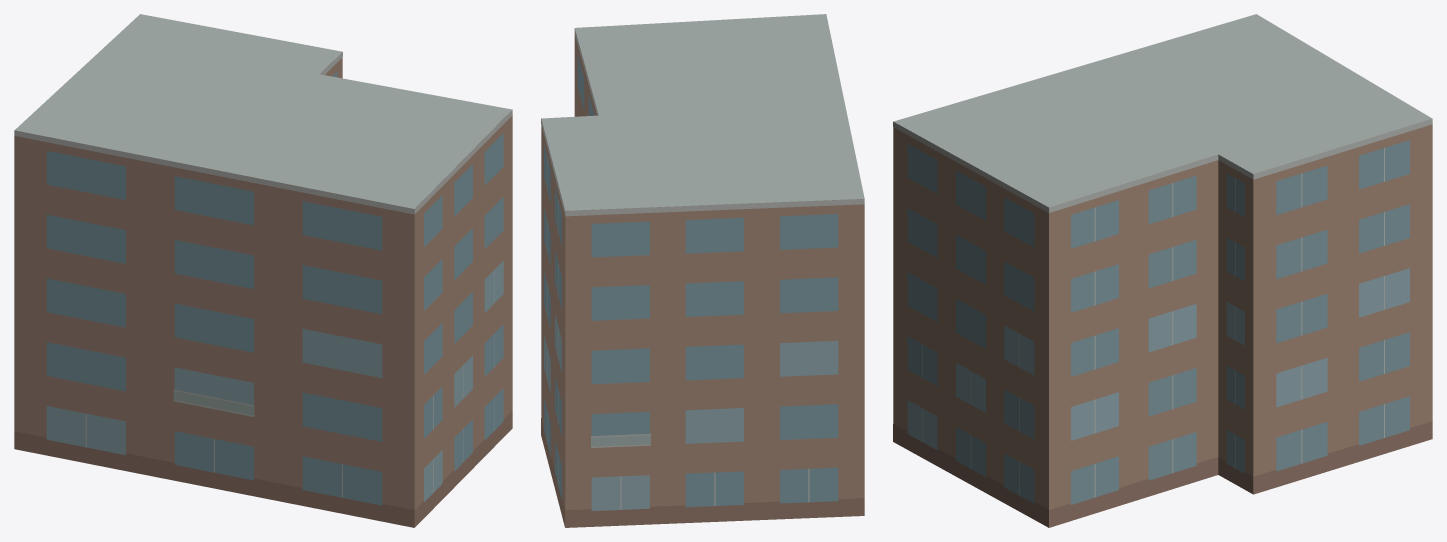
Rendered from survey-upis-32949549.glb.
3 views of the same model, side by side, from view 1: azimuth 30°, elevation 25°; view 2: azimuth 150°, elevation 25°; view 3: azimuth 270°, elevation 25° (orthographic).
Parts seen in each view (by area): view 1: survey-upis-32949549.tmp; view 2: survey-upis-32949549.tmp; view 3: survey-upis-32949549.tmp.
Part boxes in pixels (x1,y1,x2,y2): survey-upis-32949549.tmp: (14, 14, 512, 527); survey-upis-32949549.tmp: (541, 14, 864, 527); survey-upis-32949549.tmp: (893, 14, 1432, 527).
Bounding box in the file's own units: 18.28 × 14.1 × 21.53.
